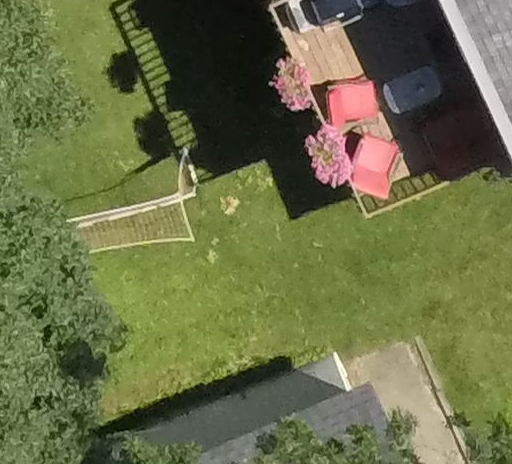container: (303, 2, 372, 27)
flower pot: (297, 121, 357, 196), (266, 55, 320, 117)
porch: (246, 2, 512, 261)
